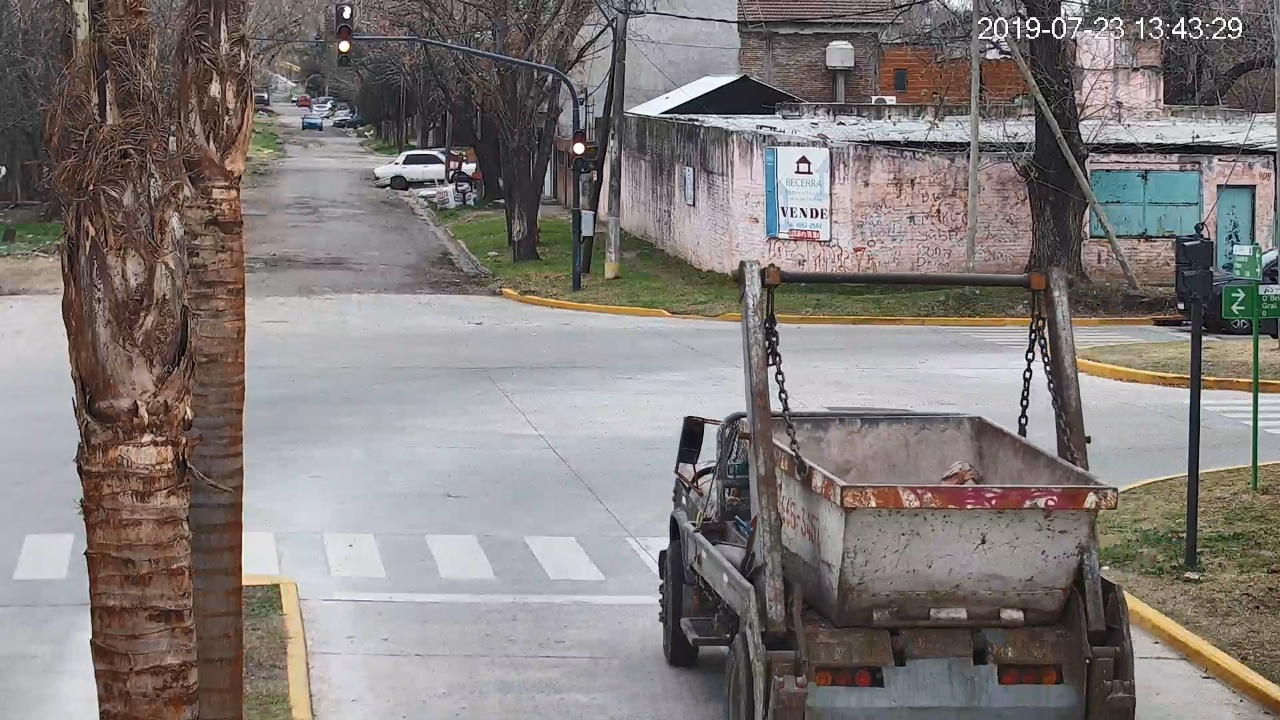traffic light: (336, 24, 352, 67), (572, 130, 585, 170)
truck: (659, 261, 1136, 720)
